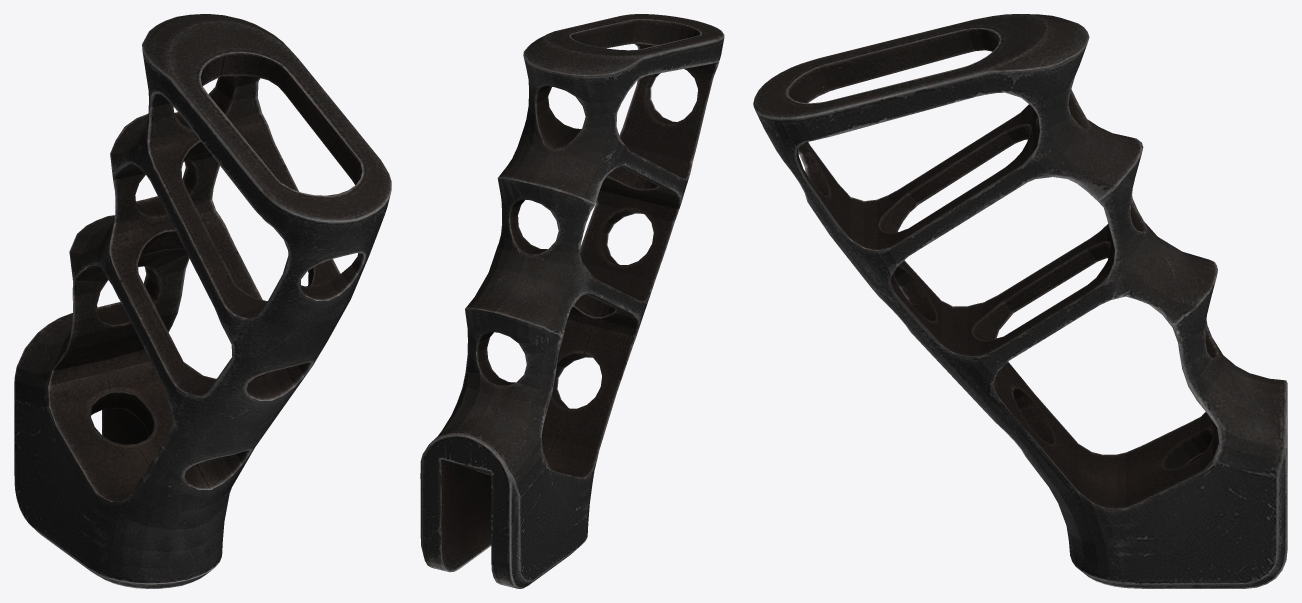
The picture shows the model from 3 angles, left to right: view 1: azimuth 30°, elevation 25°; view 2: azimuth 150°, elevation 25°; view 3: azimuth 270°, elevation 25°; orthographic projection. The views are drawn at different scales.
Visible parts, largest first — view 1: TW_5b07db875acfc40dc528a5f6_PZ_Import; view 2: TW_5b07db875acfc40dc528a5f6_PZ_Import; view 3: TW_5b07db875acfc40dc528a5f6_PZ_Import.
Boxes of the visible parts, x1=… form: TW_5b07db875acfc40dc528a5f6_PZ_Import: x1=14, y1=14, x2=391, y2=588; TW_5b07db875acfc40dc528a5f6_PZ_Import: x1=420, y1=14, x2=724, y2=588; TW_5b07db875acfc40dc528a5f6_PZ_Import: x1=753, y1=14, x2=1287, y2=588.
Size of the model in its own units: 0.0133 by 0.0535 by 0.0592.
Materials: 1 (1 with a texture image).
